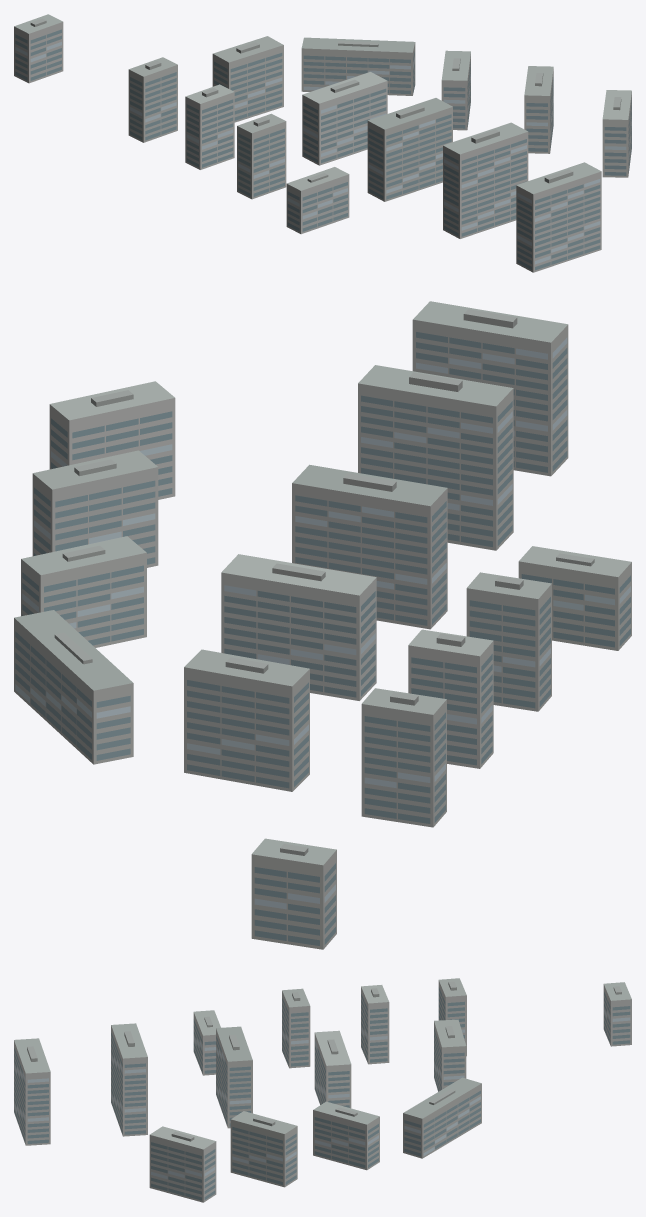
The model's file is apt-a10025241.glb.
3 views of the same model, one above another, from view 1: azimuth 30°, elevation 25°; view 2: azimuth 150°, elevation 25°; view 3: azimuth 270°, elevation 25° (orthographic). The views are drawn at different scales.
Parts seen in each view (by area): view 1: apt-a10025241; view 2: apt-a10025241; view 3: apt-a10025241.
Boxes of the visible parts, box(x1,y1,x2,y2) form: apt-a10025241: box(14, 14, 631, 272); apt-a10025241: box(14, 301, 631, 949); apt-a10025241: box(14, 978, 631, 1202).
Size of the model in its own units: 188 by 41 by 281.
